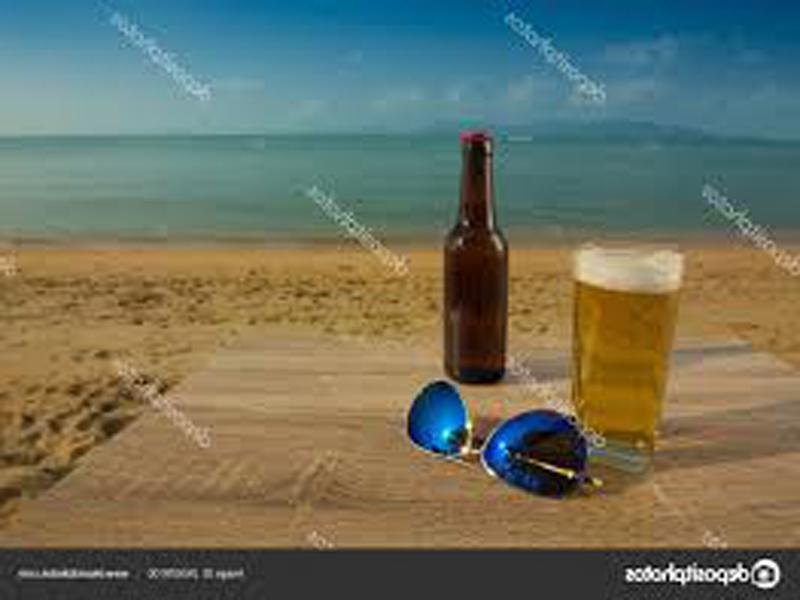Beer: (443, 131, 507, 381)
